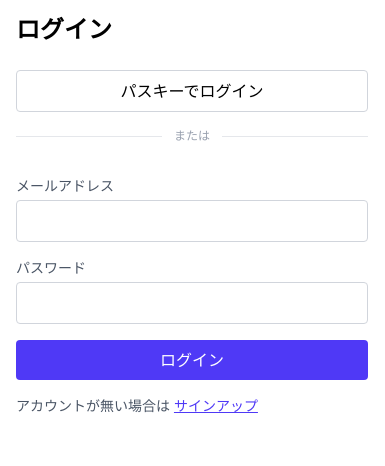
Test: LoginPage › shows an error message when the passkey login fails
Click the button "パスキーでログイン".
click(192, 91)  # box [16,70,368,112]
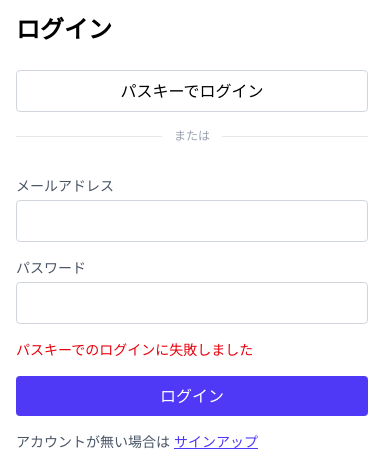
Check: the text "パスキーでのログインに失敗しました" is shown, box [16,341,253,358]
